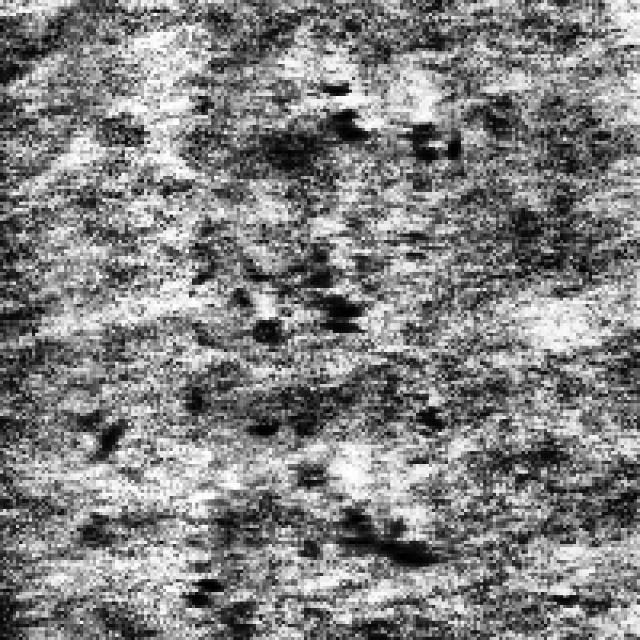Crazing: (186, 262, 432, 580), (301, 67, 461, 163)
